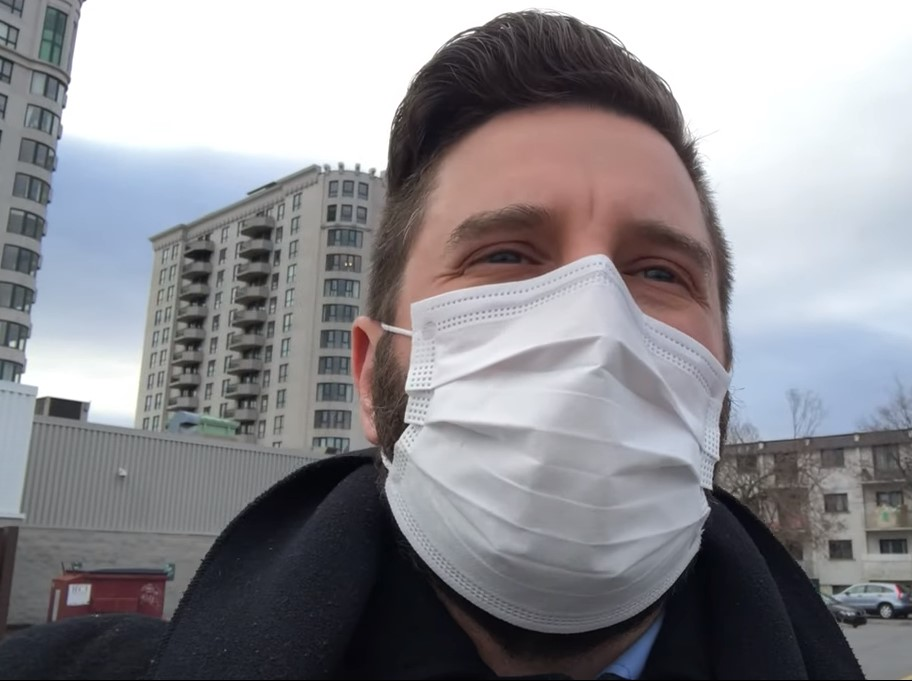face_with_mask: (344, 14, 742, 649)
